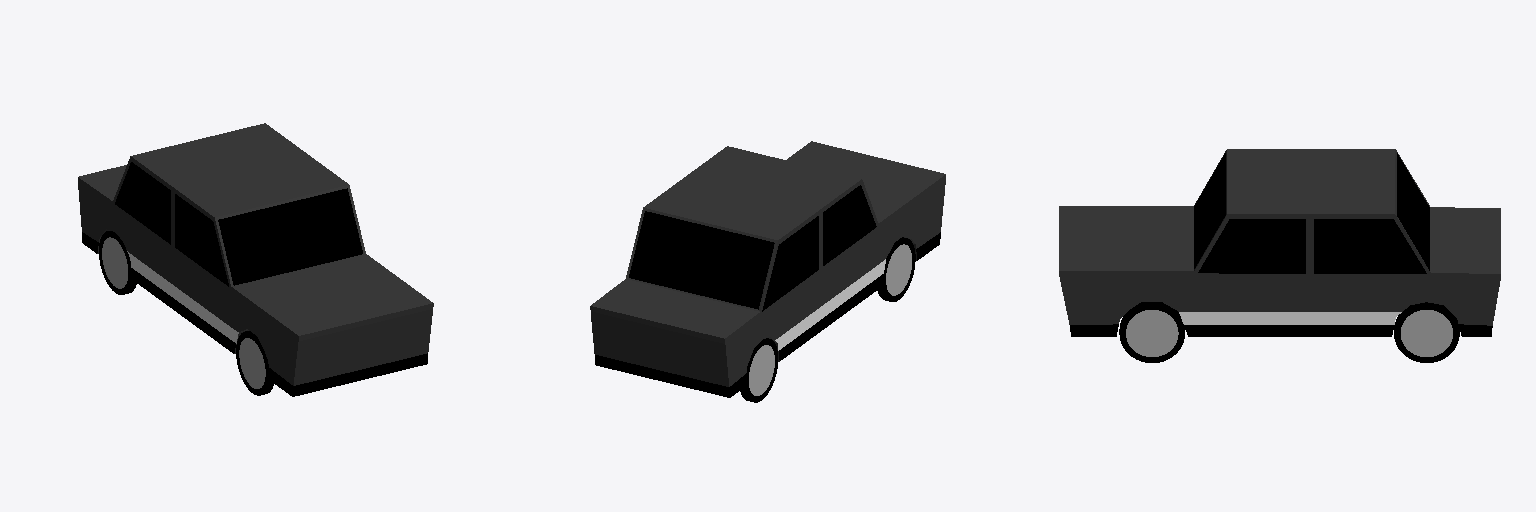
File: saloon.obj
3 views of the same model, side by side, from view 1: azimuth 30°, elevation 25°; view 2: azimuth 150°, elevation 25°; view 3: azimuth 270°, elevation 25° (orthographic).
Visible parts, largest first — view 1: Body, Cylinder.3, Cylinder.2; view 2: Body, Cylinder.3, Cylinder.2; view 3: Body, Cylinder.1, Cylinder.
Part boxes in pixels (x1,y1,x2,y2): Body: (78,123,433,396); Cylinder.3: (236,331,273,395); Cylinder.2: (99,231,136,294); Body: (590,141,945,397); Cylinder.3: (877,237,915,301); Cylinder.2: (740,338,777,402); Body: (1059,149,1500,336); Cylinder.1: (1119,302,1184,362); Cylinder: (1394,302,1459,362).
Bounding box in the file's own units: 353 × 370 × 999.